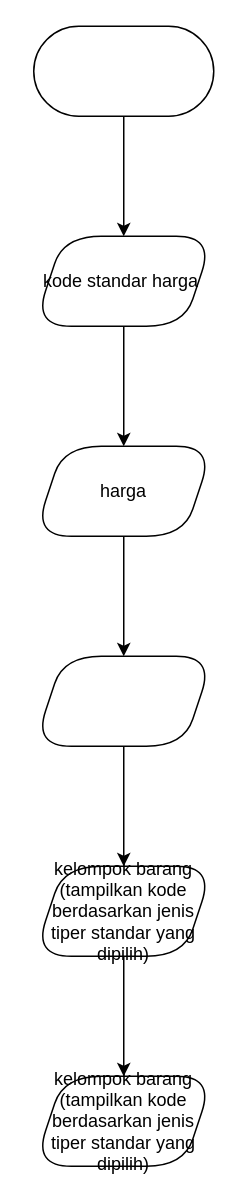
The diagram is 248 pixels wide and 1202 high, and some of its shapes have lost their labels. The shapes that lost their labels are listed below. From the top down, each one's centre as x and y in pixels, then its label:
point (123, 70): start
point (123, 700): tipe standar harga(ssh,hspk,asb,sbu)
